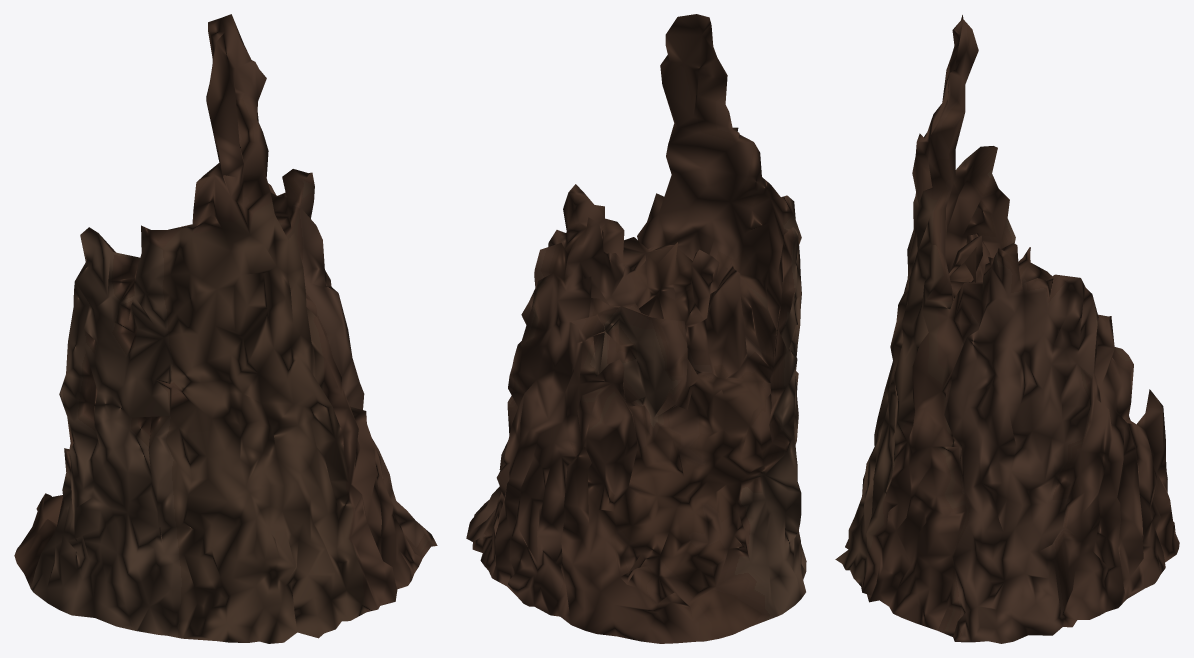
File: stump-broken-far.glb
The picture shows the model from 3 angles, left to right: view 1: azimuth 30°, elevation 25°; view 2: azimuth 150°, elevation 25°; view 3: azimuth 270°, elevation 25°; orthographic projection. The views are drawn at different scales.
Parts seen in each view (by area): view 1: wj0sfins_HIGH_TIER0_000; view 2: wj0sfins_HIGH_TIER0_000; view 3: wj0sfins_HIGH_TIER0_000.
Part boxes in pixels (<box>): wj0sfins_HIGH_TIER0_000: <box>14,14,437,643</box>; wj0sfins_HIGH_TIER0_000: <box>466,14,806,643</box>; wj0sfins_HIGH_TIER0_000: <box>835,15,1179,643</box>.
Bounding box in the file's own units: 1.18 × 1.83 × 1.08.
Materials: 1 (1 with a texture image).
